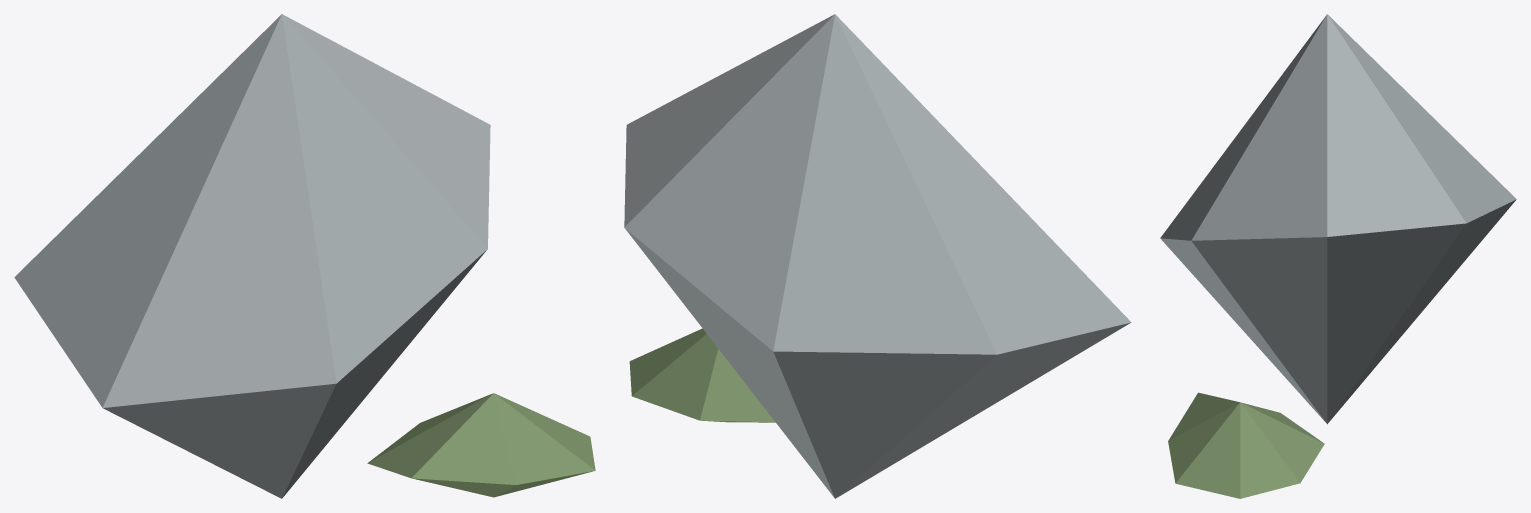
Rendered from river_boulder_moss.glb.
The picture shows the model from 3 angles, left to right: view 1: azimuth 30°, elevation 25°; view 2: azimuth 150°, elevation 25°; view 3: azimuth 270°, elevation 25°; orthographic projection. The views are drawn at different scales.
Visible parts, largest first — view 1: river_boulder_moss; view 2: river_boulder_moss; view 3: river_boulder_moss.
Boxes of the visible parts, left/top/right/bottom form: river_boulder_moss: left=14, top=14, right=595, bottom=498; river_boulder_moss: left=624, top=14, right=1131, bottom=498; river_boulder_moss: left=1160, top=14, right=1516, bottom=498.
Bounding box in the file's own units: 1.39 × 1.3 × 1.02.
